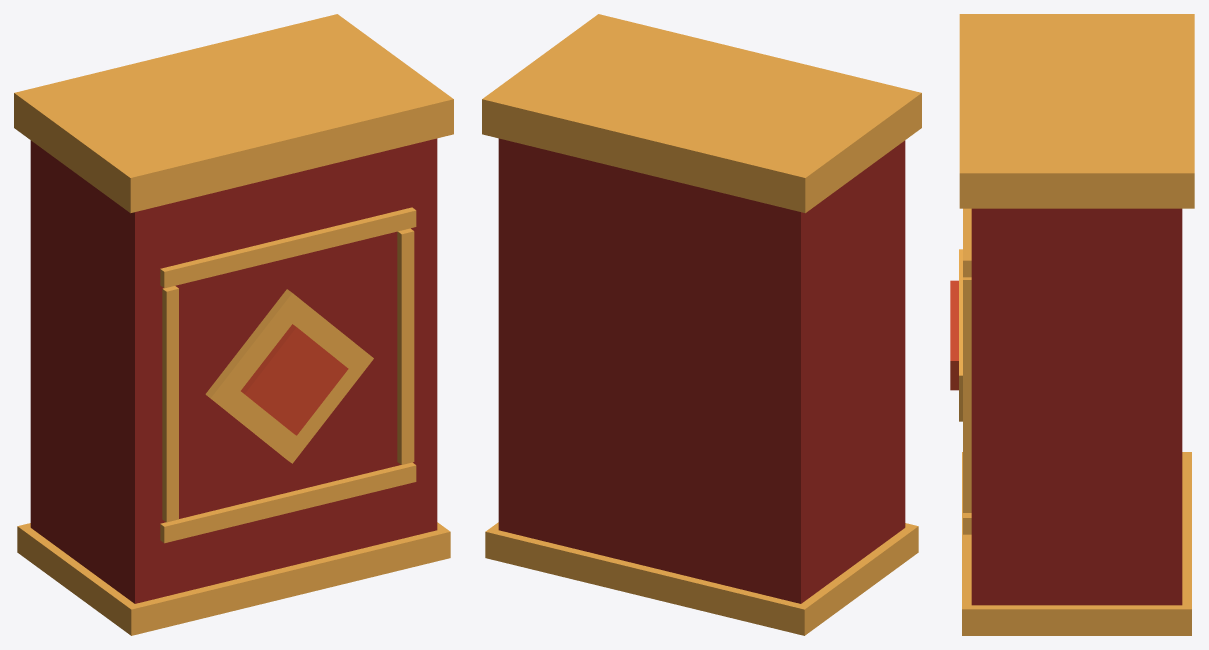
File: sample-blind-box.glb
3 views of the same model, side by side, from view 1: azimuth 30°, elevation 25°; view 2: azimuth 150°, elevation 25°; view 3: azimuth 270°, elevation 25° (orthographic).
Parts seen in each view (by area): view 1: Box body, Top lid, Bottom plinth, Gold seal, Red seal center, Front upper trim, Front lower trim, Front right trim, Front left trim; view 2: Box body, Top lid, Bottom plinth; view 3: Box body, Top lid, Bottom plinth, Front right trim, Red seal center, Gold seal, Front upper trim.
Part boxes in pixels (x1=…): Box body: x1=30, y1=138, x2=437, y2=603; Top lid: x1=14, y1=14, x2=453, y2=213; Bottom plinth: x1=17, y1=522, x2=450, y2=635; Gold seal: x1=205, y1=289, x2=373, y2=463; Red seal center: x1=241, y1=324, x2=348, y2=435; Front upper trim: x1=160, y1=207, x2=416, y2=288; Front lower trim: x1=160, y1=462, x2=416, y2=543; Front right trim: x1=397, y1=228, x2=414, y2=464; Front left trim: x1=162, y1=286, x2=178, y2=522; Box body: x1=498, y1=138, x2=905, y2=603; Top lid: x1=482, y1=14, x2=921, y2=213; Bottom plinth: x1=485, y1=522, x2=918, y2=635; Box body: x1=971, y1=208, x2=1182, y2=605; Top lid: x1=959, y1=14, x2=1194, y2=208; Bottom plinth: x1=962, y1=452, x2=1191, y2=635; Front right trim: x1=963, y1=277, x2=971, y2=512; Red seal center: x1=950, y1=280, x2=958, y2=390; Gold seal: x1=959, y1=249, x2=962, y2=421; Front upper trim: x1=963, y1=208, x2=971, y2=277.
Size of the model in its own units: 1.54 by 2.09 by 0.9975.
